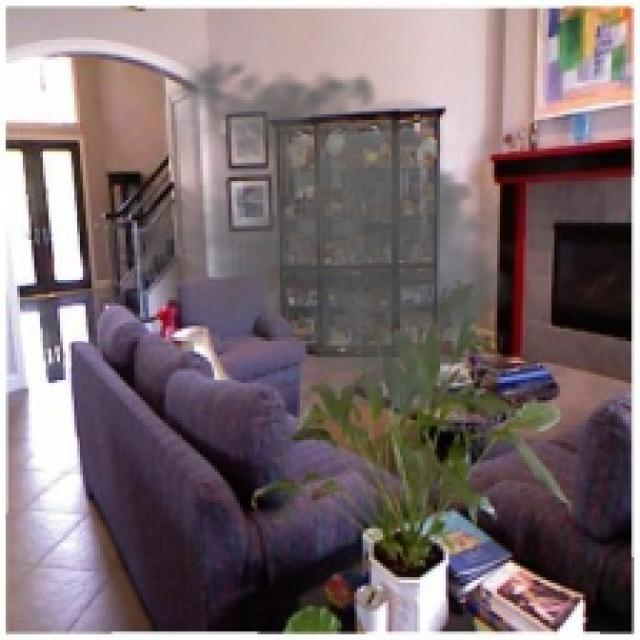smoke: (134, 48, 532, 423)
